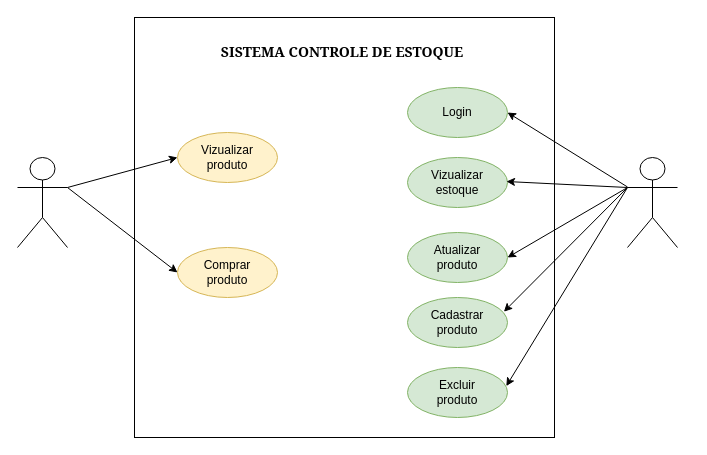
Some shapes in this 707 by 455 pixel diagram are drawn without their labels. The shapes that lost their labels are listed below. From the top down, each one's centre as x and y in pixels, then its label:
At (x=42, y=202): "Cliente".
At (x=652, y=202): "Administrador".
